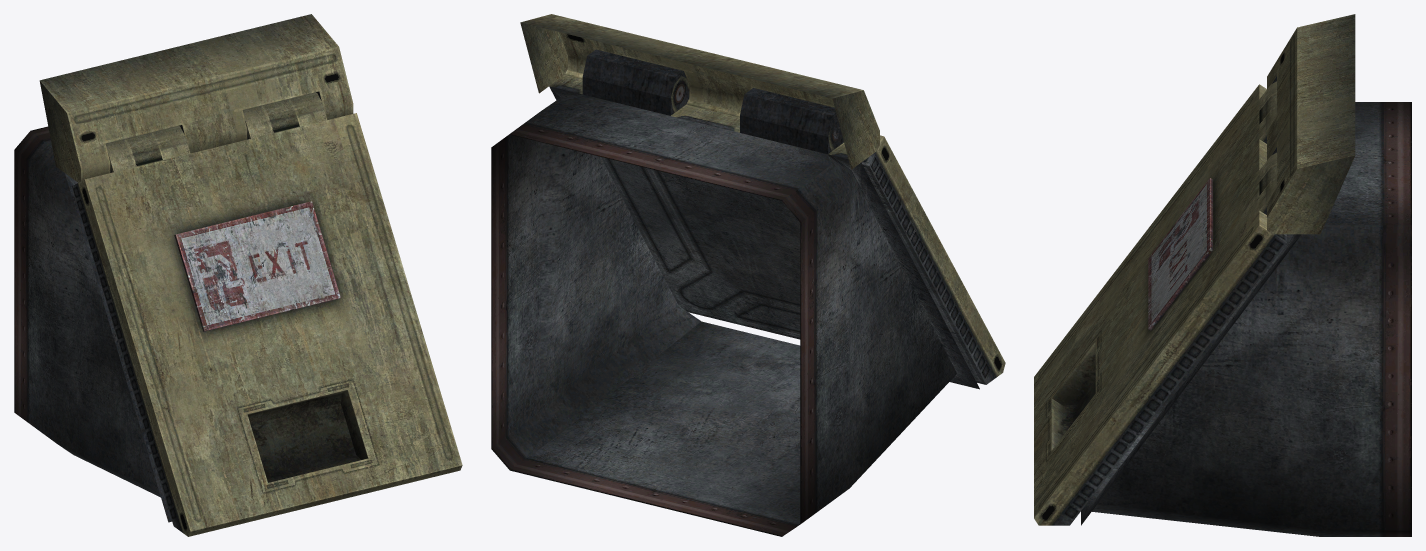
Rendered from hatch_tunnel_escape.dae.
3 renders of one model, left to right at view 1: azimuth 30°, elevation 25°; view 2: azimuth 150°, elevation 25°; view 3: azimuth 270°, elevation 25°, orthographic. The views are drawn at different scales.
Parts seen in each view (by area): view 1: polySurface911, pCube76; view 2: pCube76, polySurface911; view 3: pCube76, polySurface911.
Boxes of the visible parts, x1,y1,x2,y2 form: polySurface911: [72, 92, 462, 536]; pCube76: [14, 14, 353, 522]; pCube76: [491, 14, 979, 536]; polySurface911: [565, 70, 1005, 384]; pCube76: [1081, 14, 1411, 536]; polySurface911: [1034, 81, 1286, 525].
Bounding box in the file's own units: 1.38 × 1.77 × 1.55.
Materials: 1 (1 with a texture image).
